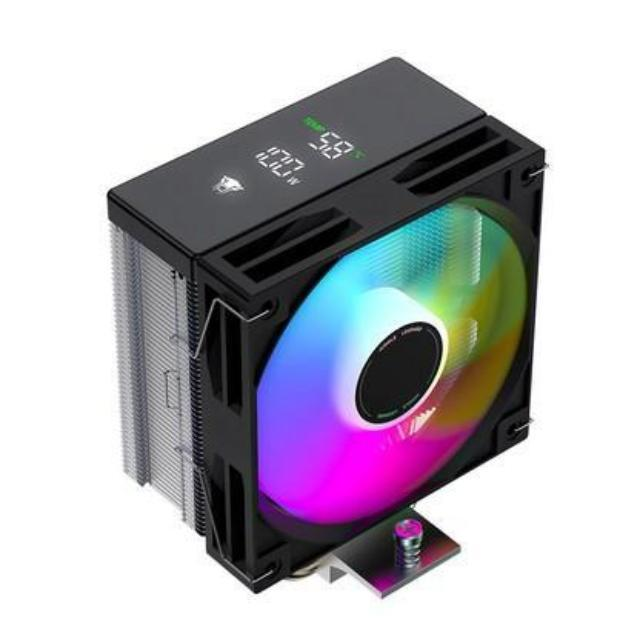CPU_Fan: (85, 36, 568, 622)
